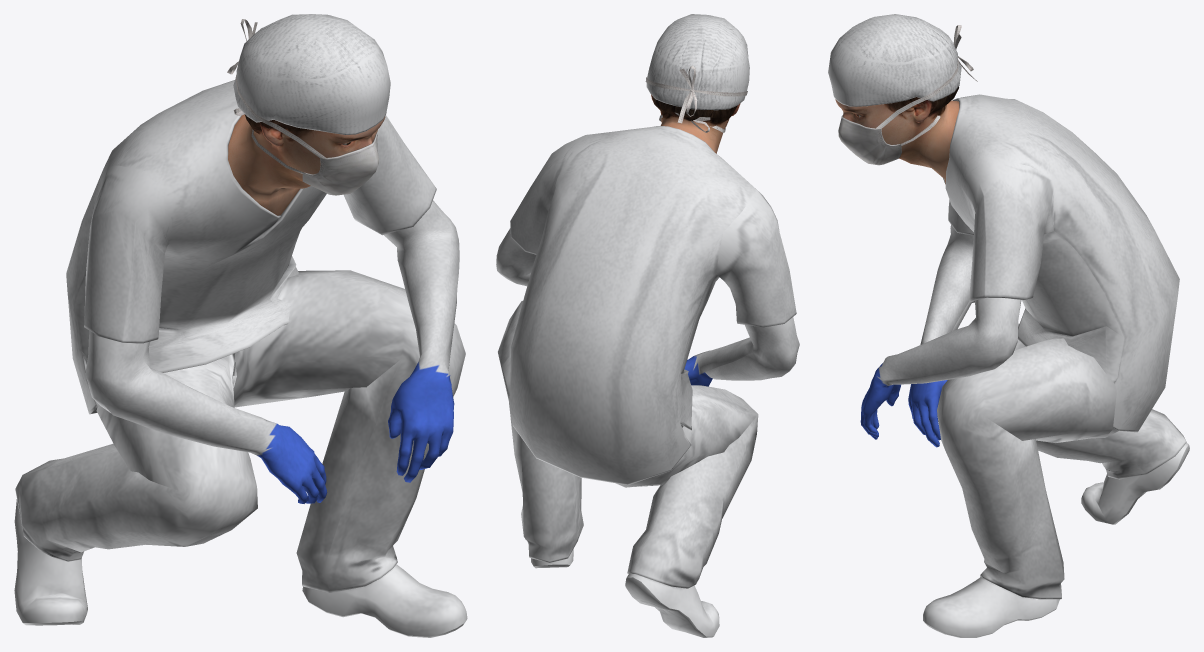
Rendered from ForensicExaminer_Crouching.obj.
3 renders of one model, left to right at view 1: azimuth 30°, elevation 25°; view 2: azimuth 150°, elevation 25°; view 3: azimuth 270°, elevation 25°, orthographic. The views are drawn at different scales.
Parts seen in each view (by area): view 1: Body, Protection, Head; view 2: Body, Protection, Head; view 3: Body, Protection, Head.
Part boxes in pixels (box(x1,y1,x2,y2)): Body: box(14, 80, 467, 637); Protection: box(227, 14, 390, 195); Head: box(228, 114, 385, 215); Body: box(496, 126, 799, 637); Protection: box(645, 14, 749, 132); Head: box(651, 94, 740, 153); Body: box(860, 94, 1189, 637); Protection: box(828, 14, 977, 165); Head: box(835, 87, 959, 184).
Bounding box in the file's own units: 0.6692 × 1.15 × 0.6888.
Materials: 3 (3 with a texture image).
